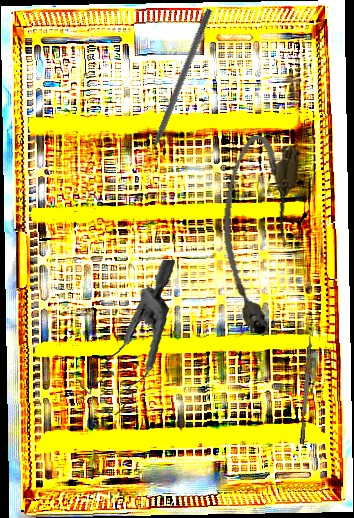Cannula: (209, 133, 303, 336)
Chopper: (294, 329, 314, 445)
Pusher: (138, 7, 214, 174)
Speculum: (67, 259, 190, 419)
